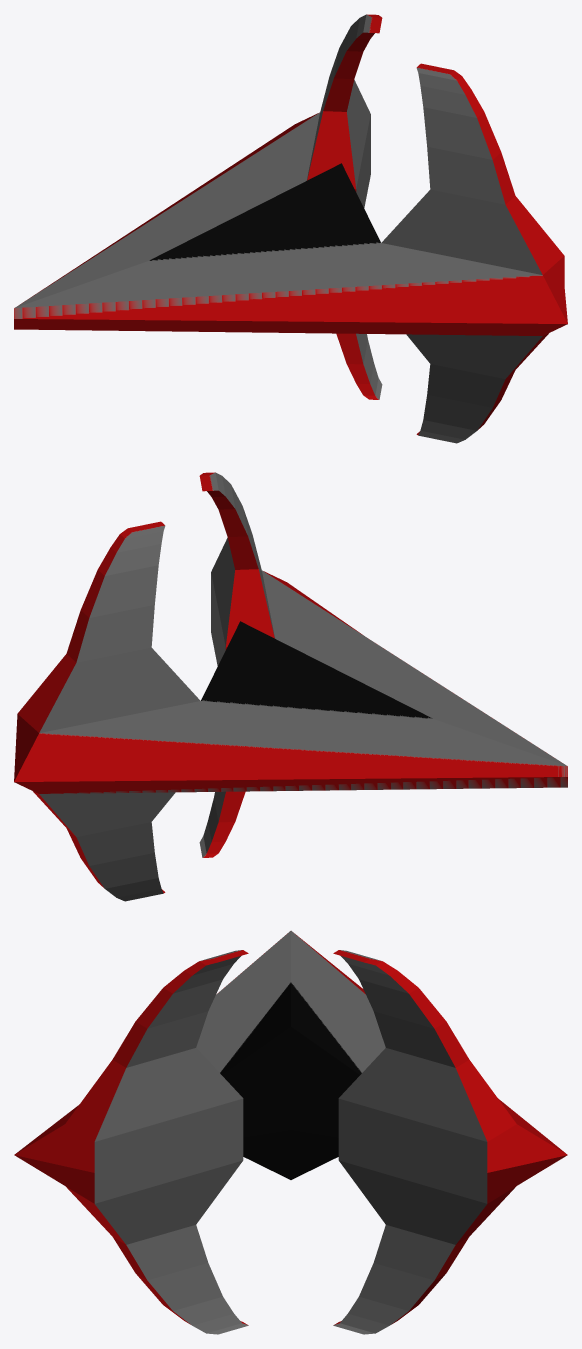
File: AlienCarrier.glb
The picture shows the model from 3 angles, top to bottom: view 1: azimuth 30°, elevation 25°; view 2: azimuth 150°, elevation 25°; view 3: azimuth 270°, elevation 25°; orthographic projection.
Parts seen in each view (by area): view 1: Cube; view 2: Cube; view 3: Cube.
Part boxes in pixels (x1=…): Cube: x1=14, y1=14, x2=567, y2=443; Cube: x1=14, y1=472, x2=567, y2=901; Cube: x1=14, y1=930, x2=567, y2=1334.
Bounding box in the file's own units: 9.38 × 7.24 × 9.77.
1 material, 1 textured.
